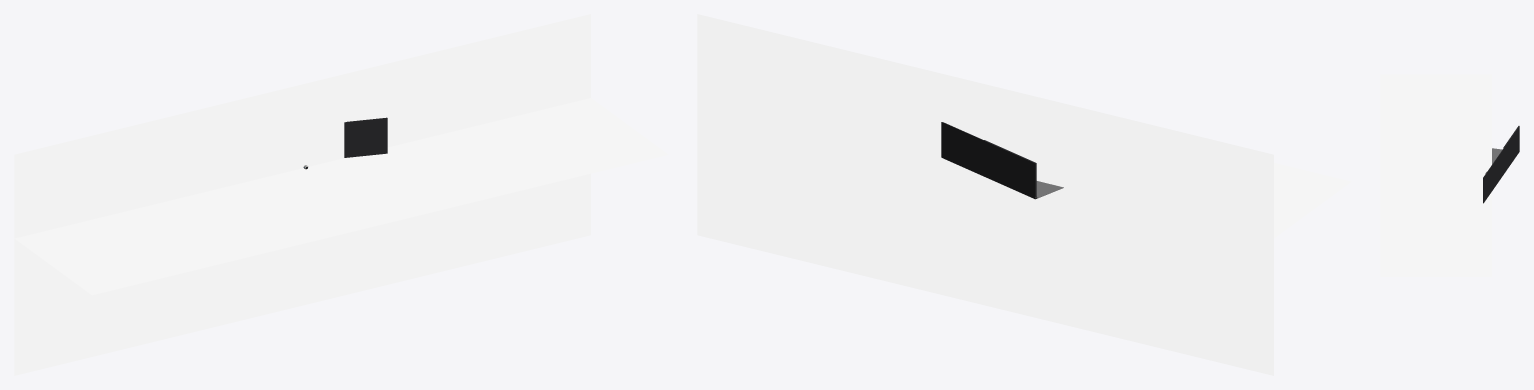
Rendered from robot.glb.
The picture shows the model from 3 angles, left to right: view 1: azimuth 30°, elevation 25°; view 2: azimuth 150°, elevation 25°; view 3: azimuth 270°, elevation 25°; orthographic projection. The views are drawn at different scales.
Visible parts, largest first — view 1: COVER_Backdrop, COVER_Floor, Env_Wall_Back; view 2: COVER_Backdrop, Env_Wall_Back, COVER_Floor; view 3: COVER_Floor, Env_Wall_Back.
Boxes of the visible parts, x1=… form: COVER_Backdrop: x1=14, y1=14, x2=590, y2=375; COVER_Floor: x1=14, y1=98, x2=668, y2=295; Env_Wall_Back: x1=344, y1=117, x2=387, y2=157; COVER_Backdrop: x1=697, y1=14, x2=1273, y2=375; Env_Wall_Back: x1=941, y1=122, x2=1035, y2=198; COVER_Floor: x1=1274, y1=163, x2=1351, y2=238; COVER_Floor: x1=1380, y1=74, x2=1491, y2=276; Env_Wall_Back: x1=1483, y1=126, x2=1519, y2=203.
Size of what is drawn, in the model's own units: 300 by 110 by 87.31.
19 materials, 2 textured.
